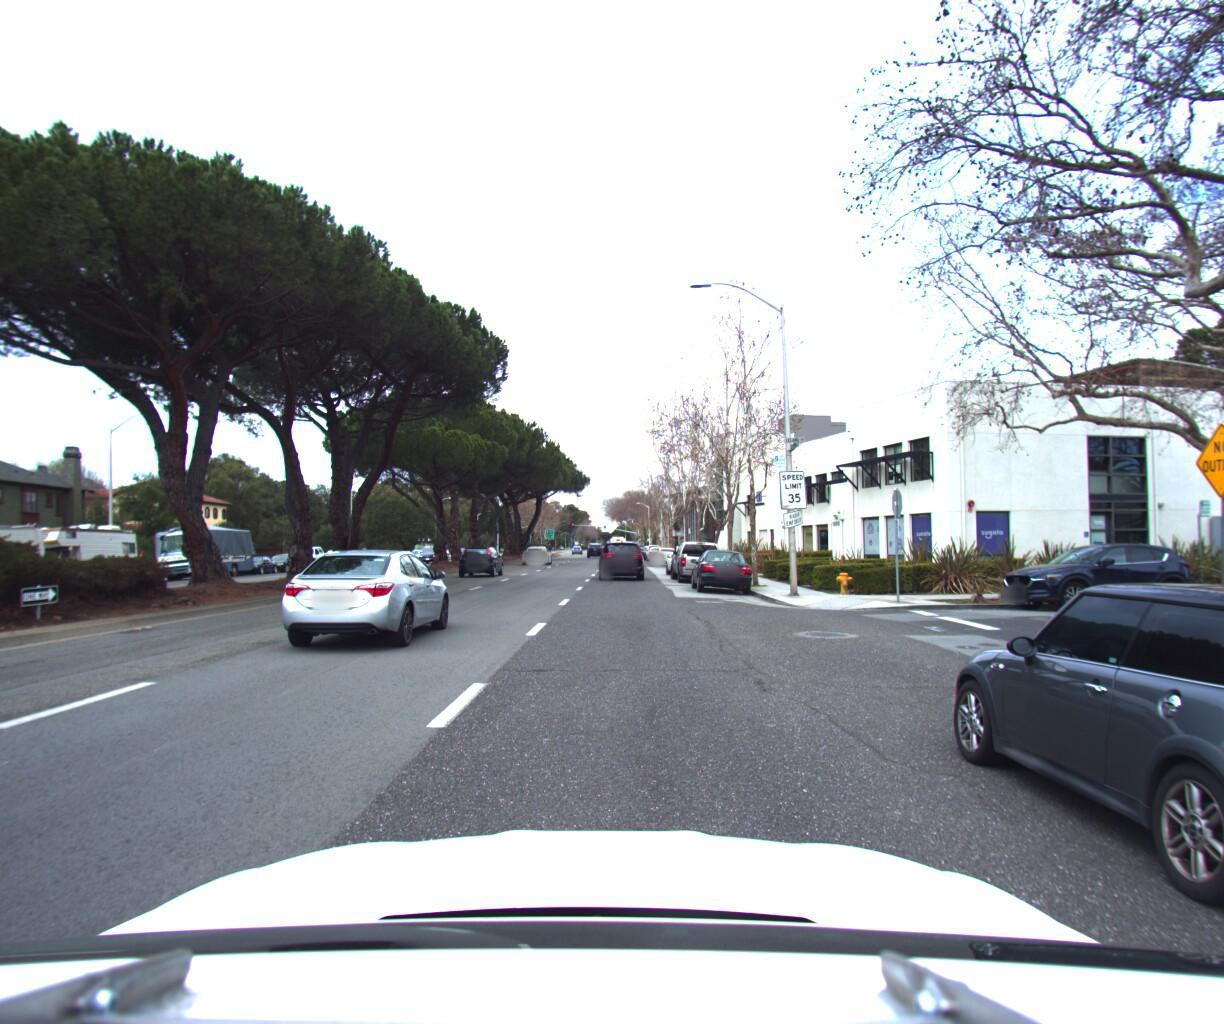car: (920, 559, 1224, 1009), (268, 539, 461, 648), (986, 531, 1201, 606), (688, 540, 757, 589), (667, 529, 733, 577), (597, 529, 645, 573), (457, 535, 506, 569), (286, 537, 339, 564), (238, 546, 286, 568), (265, 545, 306, 566), (521, 534, 552, 554), (652, 537, 680, 557), (646, 536, 666, 552)
other_vehicle: (2, 513, 152, 587), (150, 514, 262, 574), (0, 510, 62, 599)
